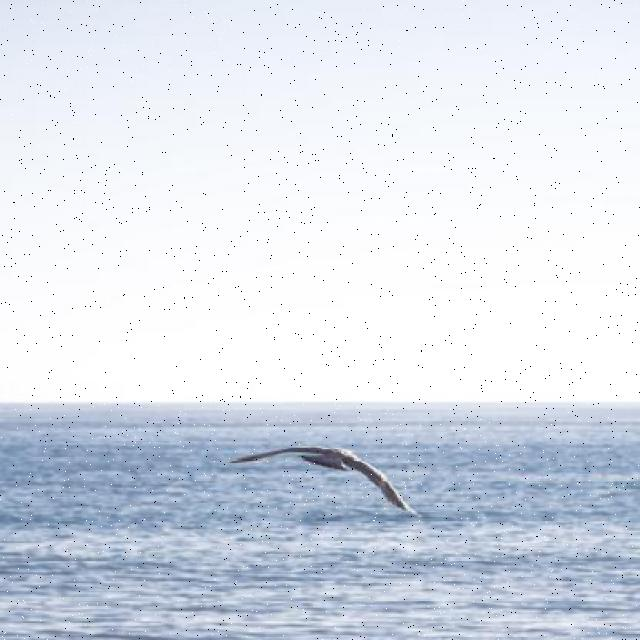bird: (228, 445, 422, 518)
